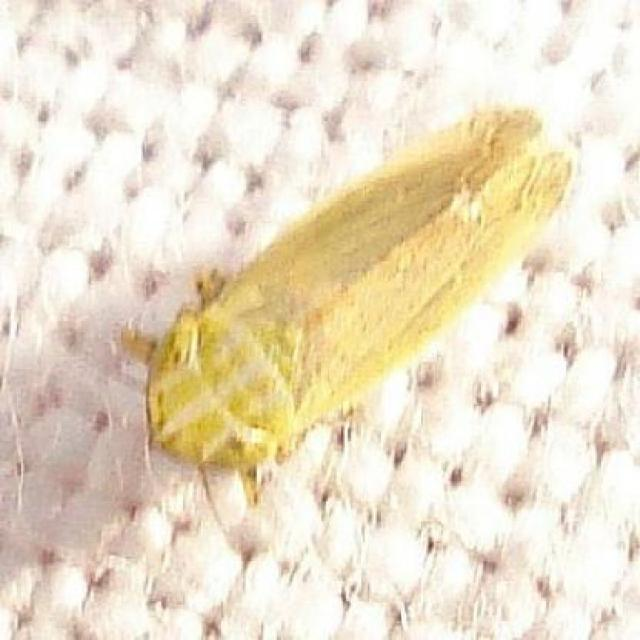green-leafhopper: (151, 117, 566, 471)
